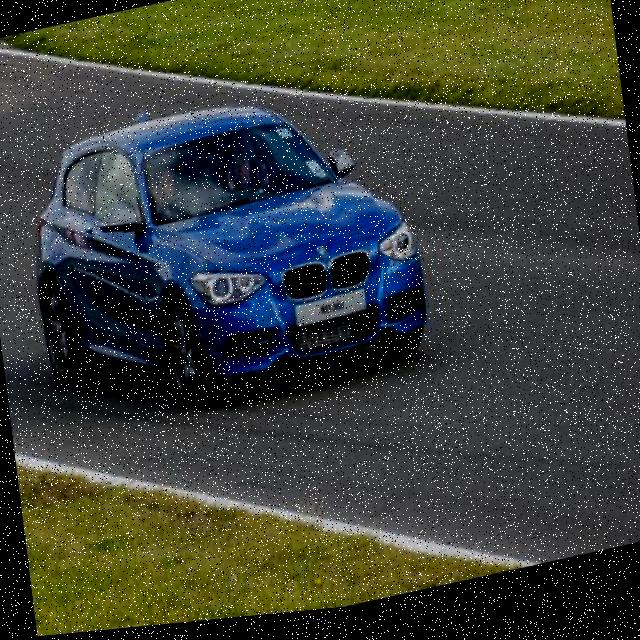license_plate: (294, 296, 368, 334)
